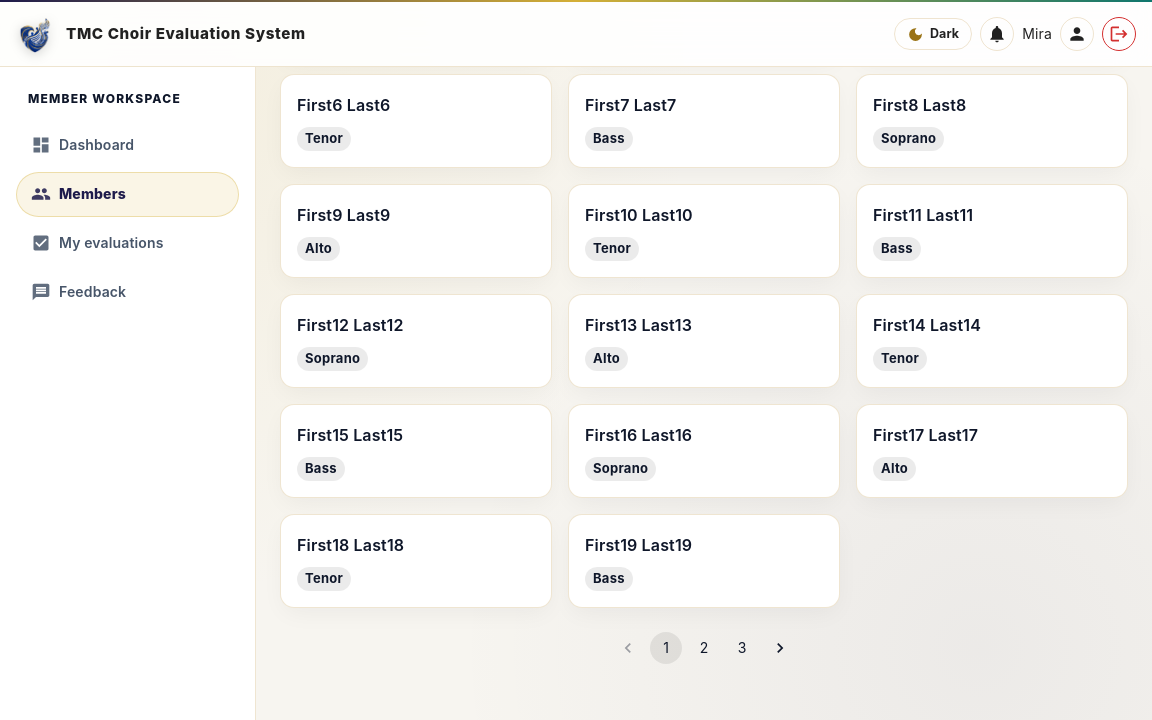
it: MemberDirectoryPage › paginates
(page scrolled)
Click the button named "go to page 3": x=742, y=648 [726,632,758,664]
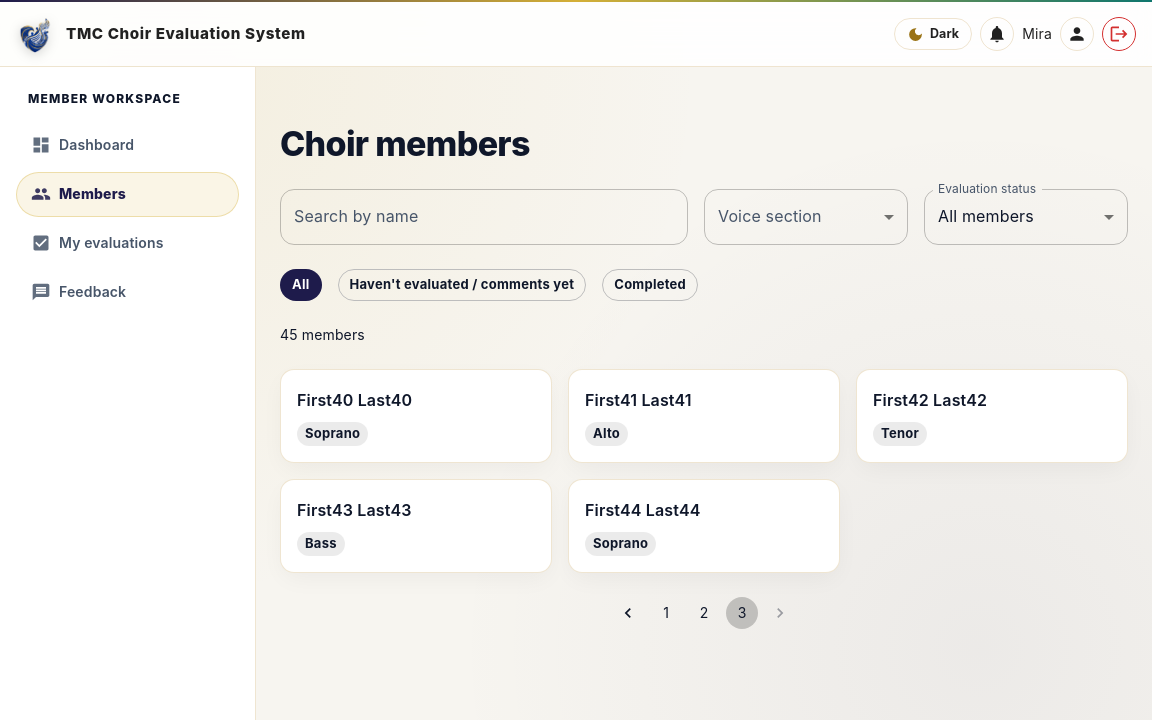
Now the heading "First40 Last40" is shown, box [297,390,412,410]
